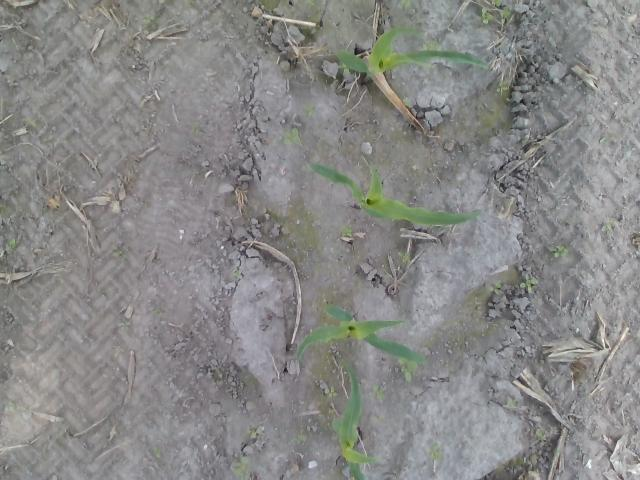Maize: (305, 158, 481, 228), (297, 301, 431, 366), (332, 26, 491, 72), (328, 362, 382, 480)
Weeds: (480, 0, 510, 25), (227, 452, 252, 480), (398, 356, 417, 382), (280, 126, 301, 146), (495, 79, 510, 104), (520, 274, 540, 290), (370, 382, 385, 403), (550, 243, 570, 258), (425, 443, 442, 460), (142, 14, 160, 30), (111, 243, 130, 258), (322, 384, 338, 400), (190, 122, 207, 137), (390, 126, 414, 136), (488, 280, 503, 295), (0, 398, 16, 412), (0, 238, 17, 250), (398, 249, 412, 263), (23, 116, 39, 128), (0, 200, 11, 217), (339, 224, 353, 237), (422, 39, 438, 50), (289, 433, 305, 444), (398, 0, 417, 9), (0, 38, 16, 48), (506, 397, 518, 409), (40, 134, 54, 144), (246, 428, 260, 438), (534, 429, 545, 441), (470, 294, 480, 306), (152, 446, 160, 460), (119, 320, 130, 330), (303, 106, 312, 118), (232, 270, 241, 280), (338, 64, 349, 72), (158, 0, 174, 5), (382, 270, 390, 280), (306, 26, 316, 34), (606, 218, 612, 230), (600, 136, 608, 145), (306, 0, 314, 8), (255, 0, 264, 5), (304, 15, 312, 20), (585, 0, 591, 6)
